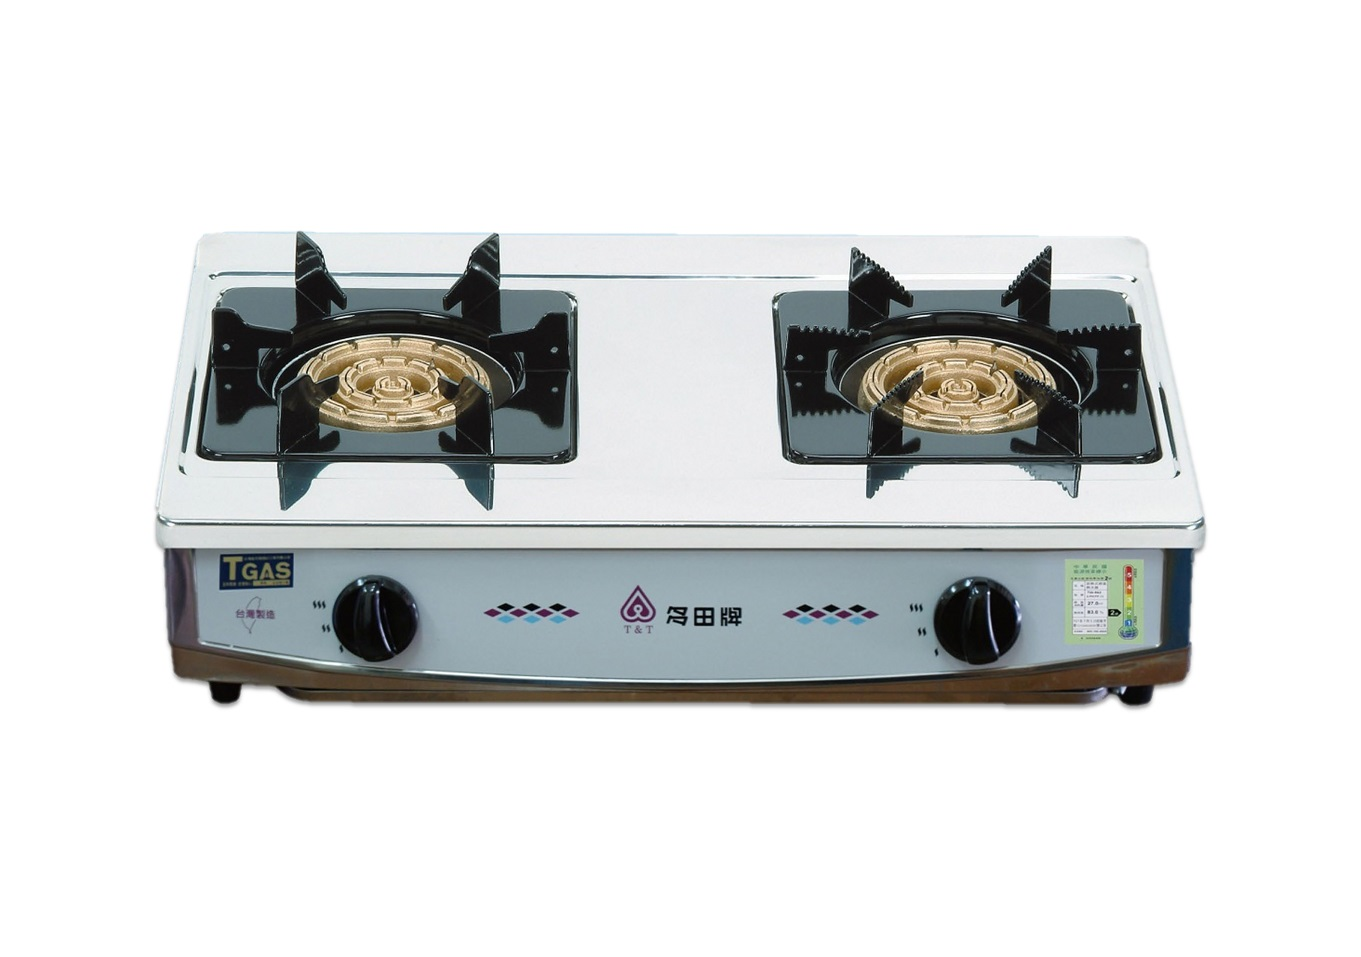gasoven: (154, 219, 1212, 724)
